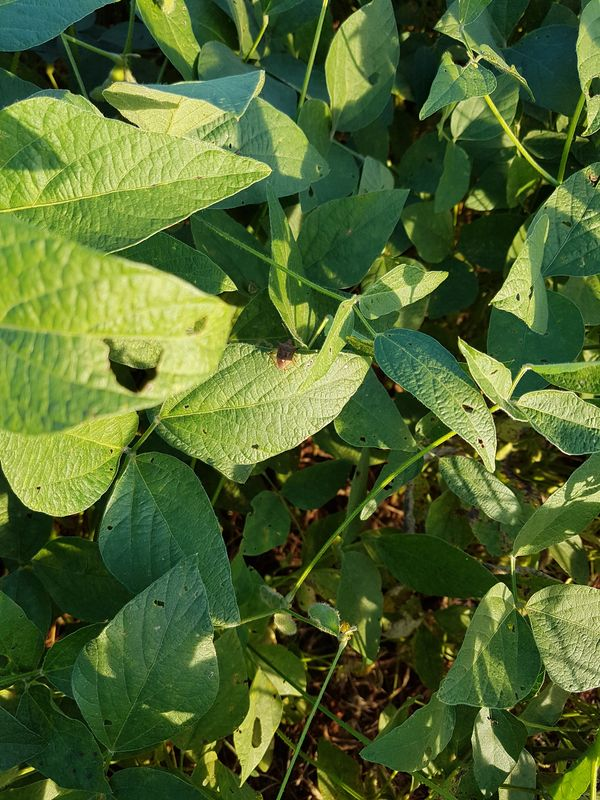Euschistus_heros_adulto: (265, 335, 305, 378)
